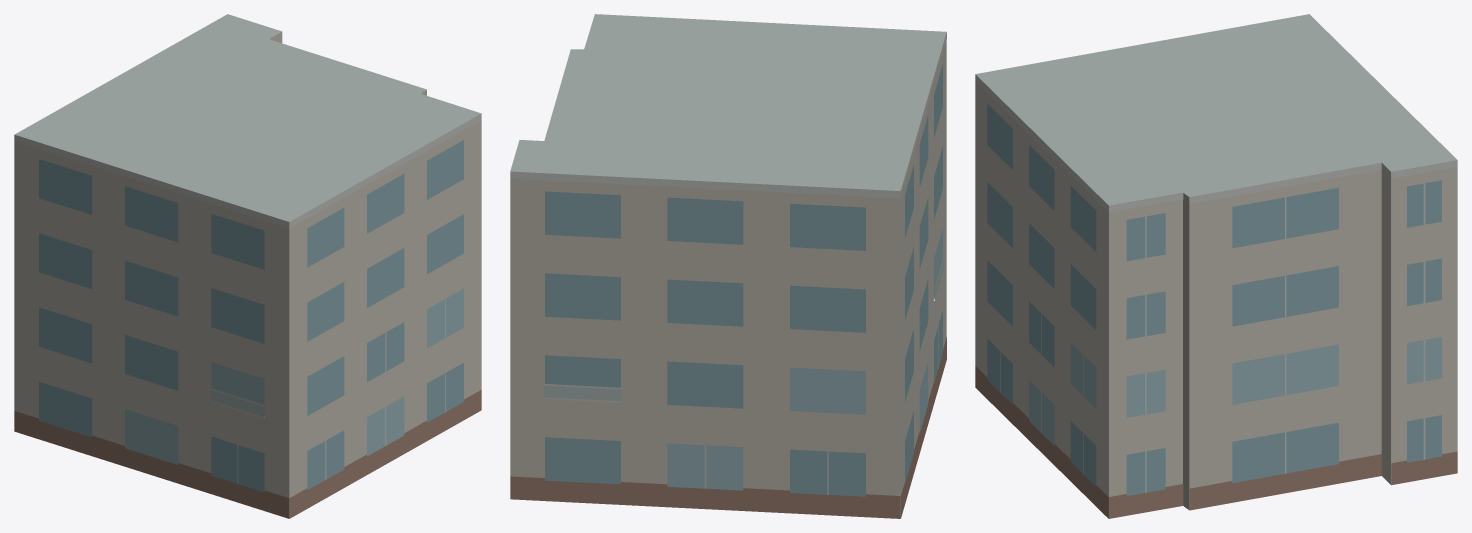
Rendered from survey-upis-32996900.glb.
3 renders of one model, left to right at view 1: azimuth 30°, elevation 25°; view 2: azimuth 150°, elevation 25°; view 3: azimuth 270°, elevation 25°, orthographic. The views are drawn at different scales.
Visible parts, largest first — view 1: survey-upis-32996900.tmp; view 2: survey-upis-32996900.tmp; view 3: survey-upis-32996900.tmp.
Part boxes in pixels (<box>): survey-upis-32996900.tmp: <box>14,14,481,518</box>; survey-upis-32996900.tmp: <box>510,14,946,518</box>; survey-upis-32996900.tmp: <box>975,14,1457,518</box>.
Bounding box in the file's own units: 14.44 × 11 × 15.36.
